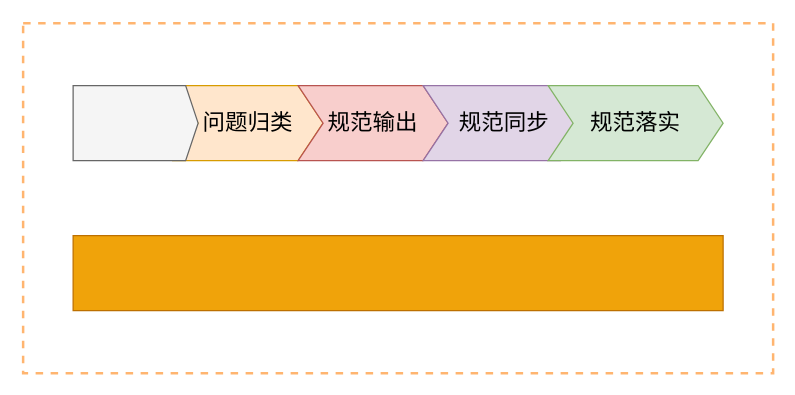
The diagram is 795 pixels wide and 395 high, and some of its shapes have lost their labels. The centre of each missing label's shape, as x and y in pixels:
"jvm规范实施" goes at point 397,272.
"配置梳理" goes at point 135,122.
